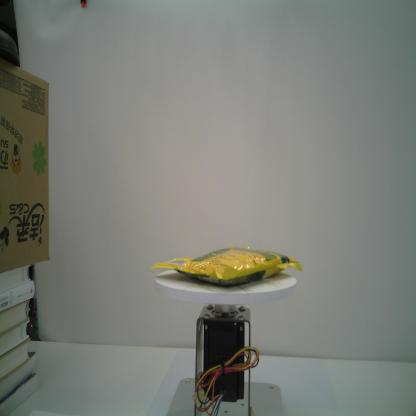Seasoner: (149, 245, 304, 286)
